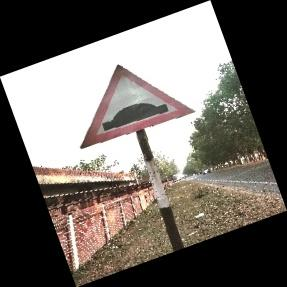Speed-breaker: (80, 64, 196, 148)
